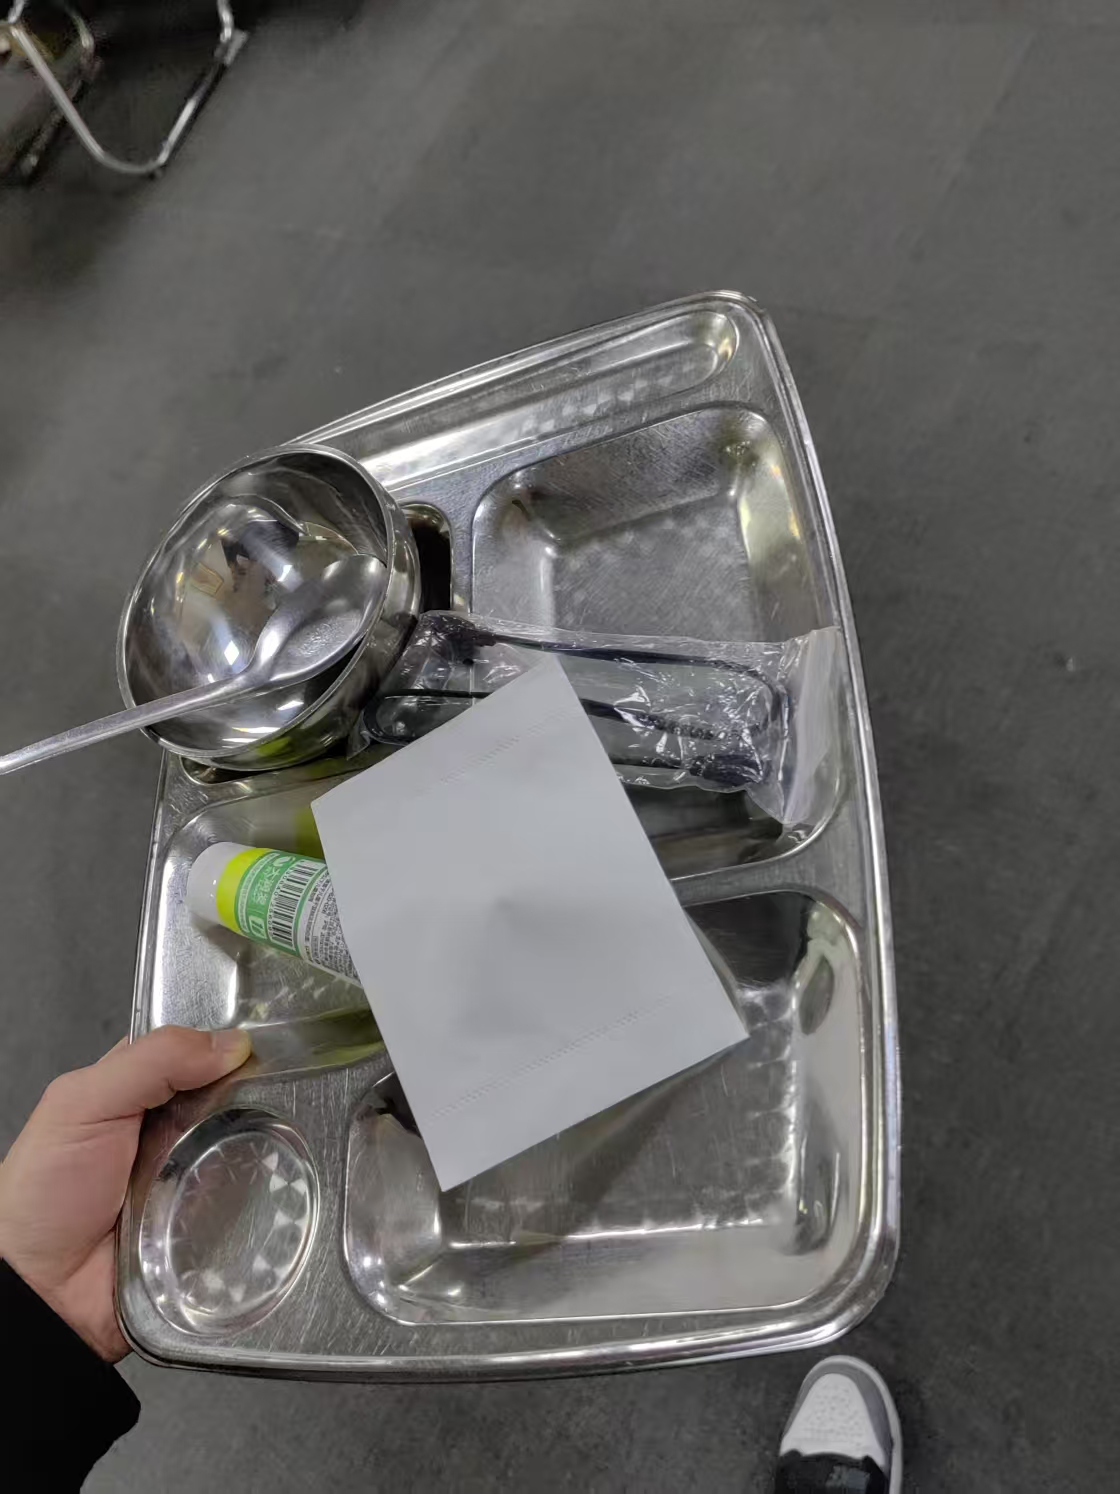plate: (113, 287, 906, 1381), (182, 603, 826, 1027)
tissue: (306, 647, 753, 1196)
